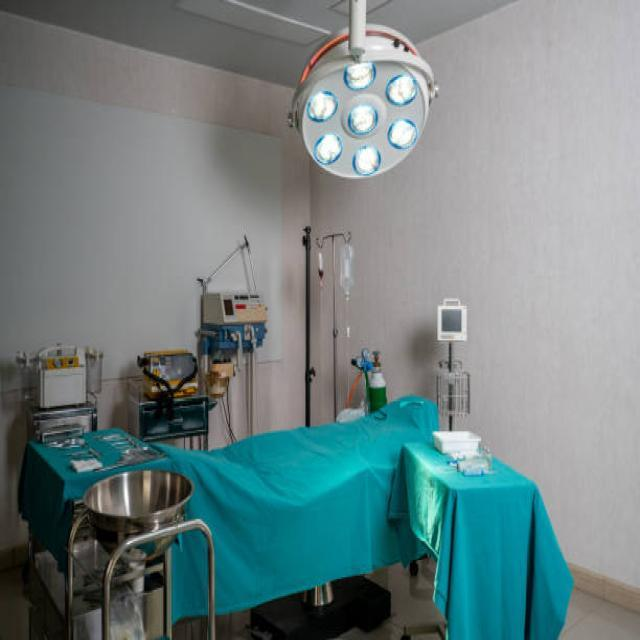Monitor: (391, 422, 570, 640), (12, 402, 169, 640), (430, 292, 473, 358)
bed: (158, 367, 432, 640)
